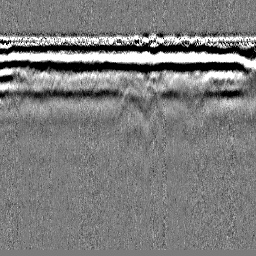cavity: (117, 84, 147, 120)
